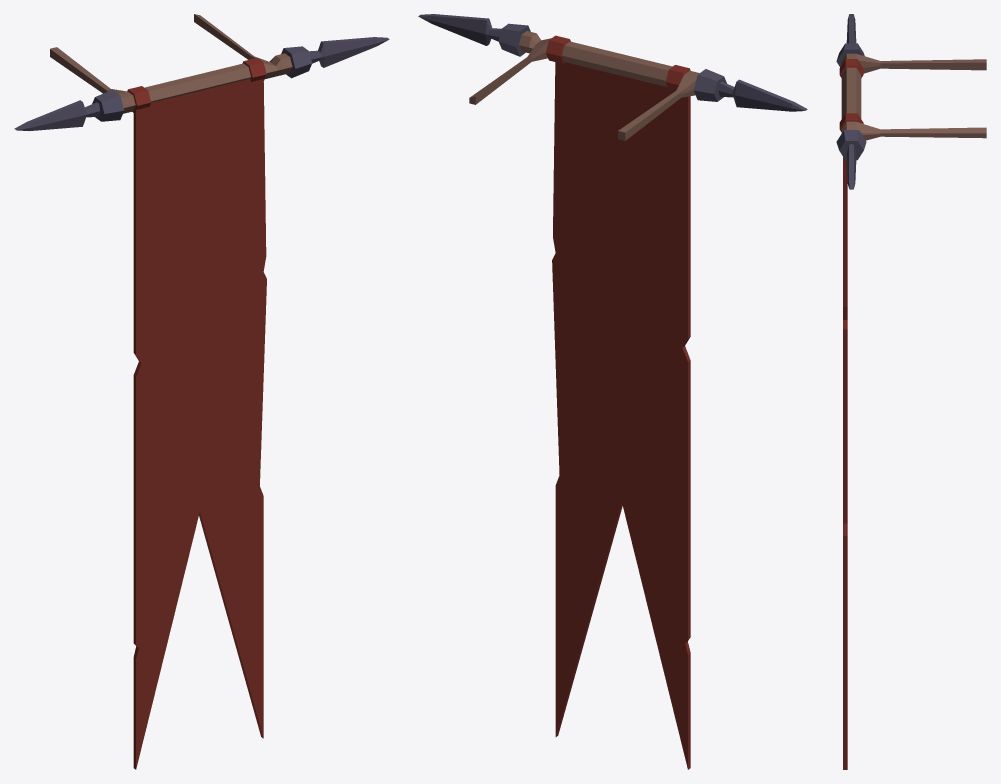
File: Banner_wall.glb
3 renders of one model, left to right at view 1: azimuth 30°, elevation 25°; view 2: azimuth 150°, elevation 25°; view 3: azimuth 270°, elevation 25°, orthographic. The views are drawn at different scales.
Parts seen in each view (by area): view 1: Banner_wall; view 2: Banner_wall; view 3: Banner_wall.
Boxes of the visible parts, bbox=[...] form: Banner_wall: bbox=[14, 14, 389, 769]; Banner_wall: bbox=[418, 14, 807, 769]; Banner_wall: bbox=[836, 14, 986, 769].
Size of the model in its own units: 1.64 by 2.85 by 0.5931.
